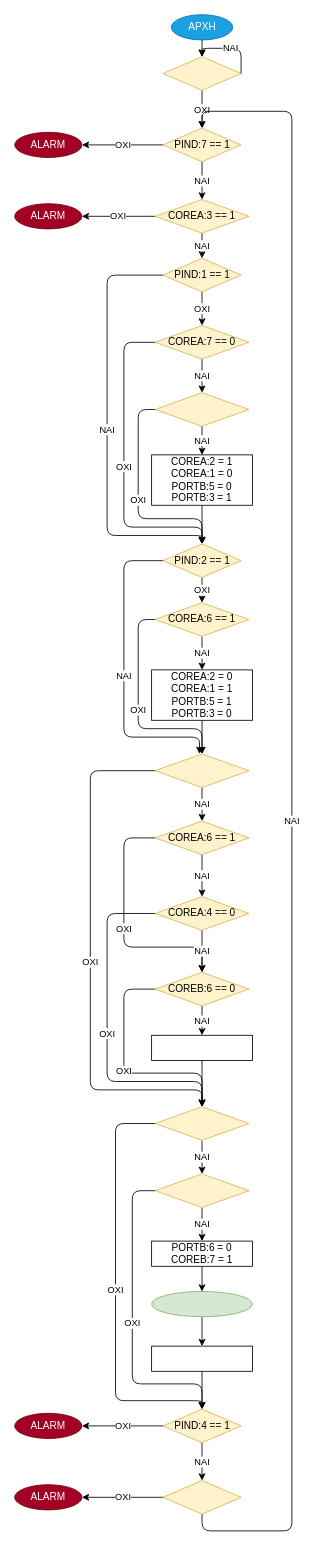
The diagram is 314 pixels wide and 1552 high, and some of its shapes have lost their labels. The centre of each missing label's shape, as x and y in pixels:
COREA:2 == 1: the point at 201,770
COREA:5 == 0: the point at 201,409
COREB:6 == 1: the point at 201,1123
COREB:7 == 0: the point at 201,1190
PAUSE 7 SECS: the point at 201,1304
PIND:0 == 1: the point at 201,73
PIND:5 == 1: the point at 201,1497
PORTB:2 = 0 COREB:2 = 1: the point at 201,1358
PORTB:4 = 0 COREB:6 = 1: the point at 201,1047
